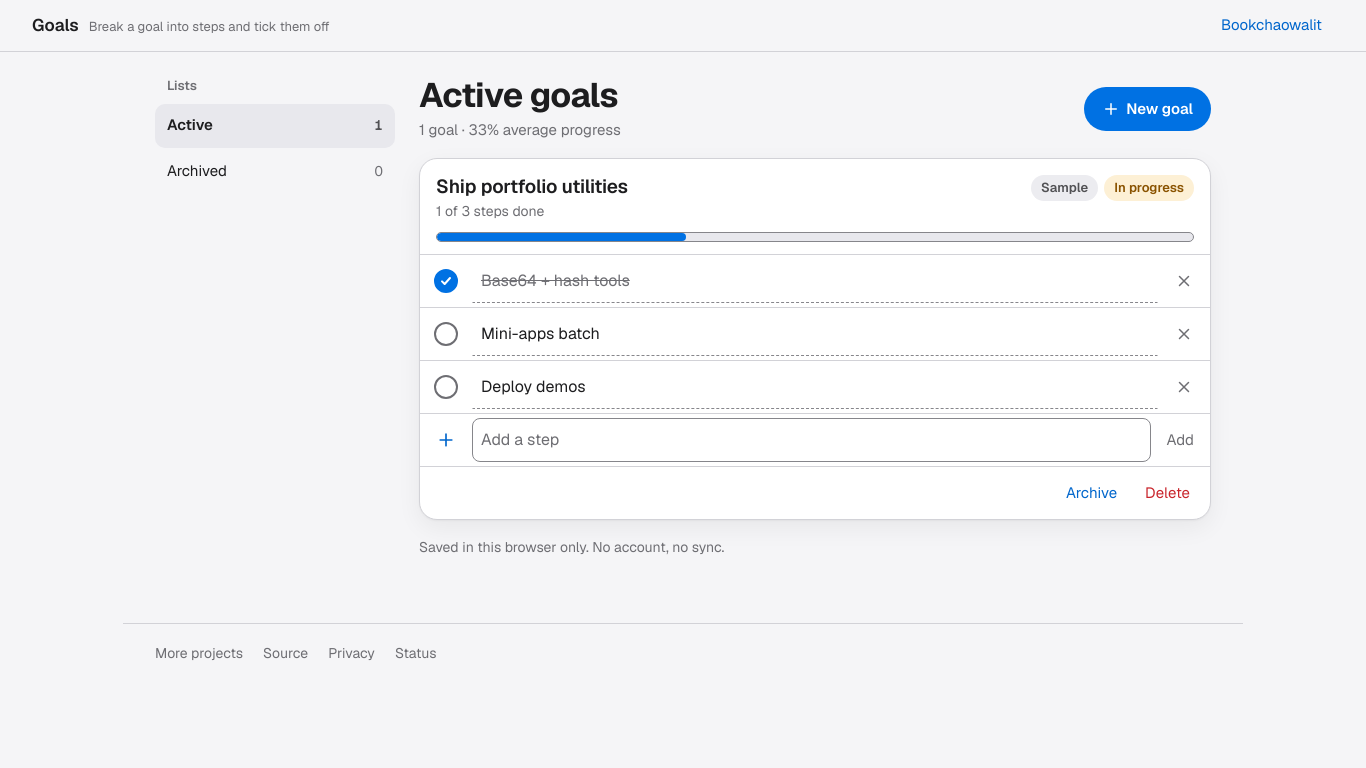
Test: steps › ticking a step updates the summary, pill and progress; all done turns the goal Done
Click the checkbox named "Done: Mini-apps batch": (446, 334) [434,322,458,346]
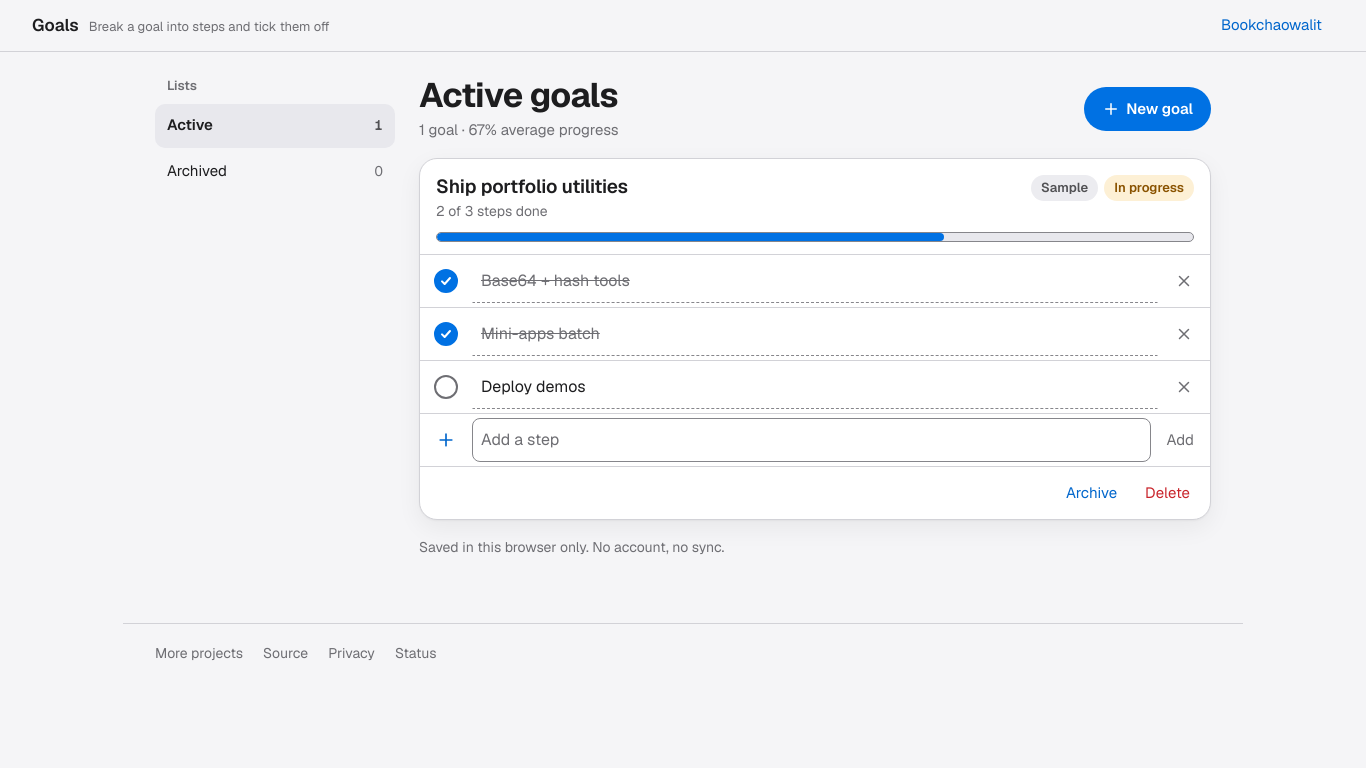
Expected: the element with class "as-goal" shows "2 of 3 steps done", [436,202,548,220]
Click the checkbox named "Done: Deploy demos": (446, 387) [434,375,458,399]
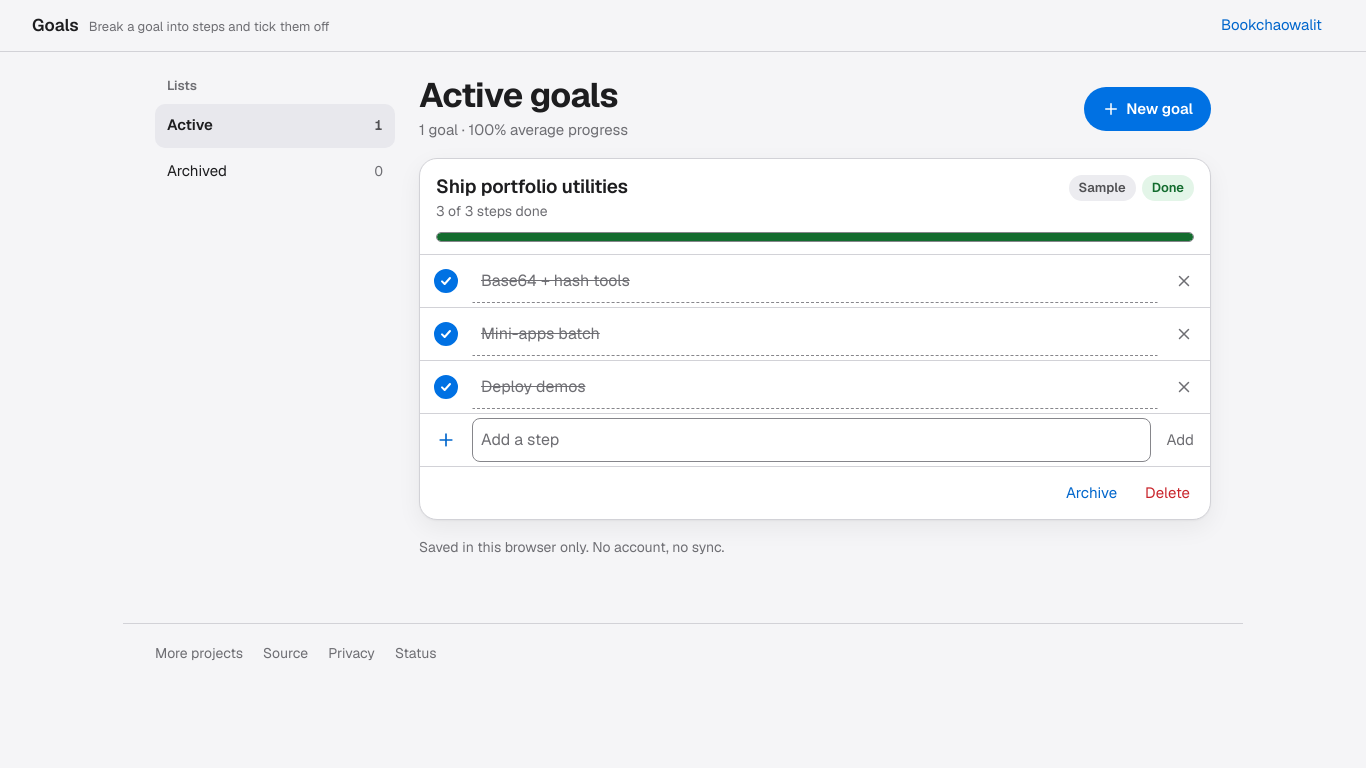
Expected: the element with class "as-goal" shows "done", [1152,179,1184,196]
Expected: the progress indicator named "Ship portfolio utilities progress" has attribute data-done="true", [436,232,1194,242]
Click the checkbox named "Done: Deploy demos": (446, 387) [434,375,458,399]
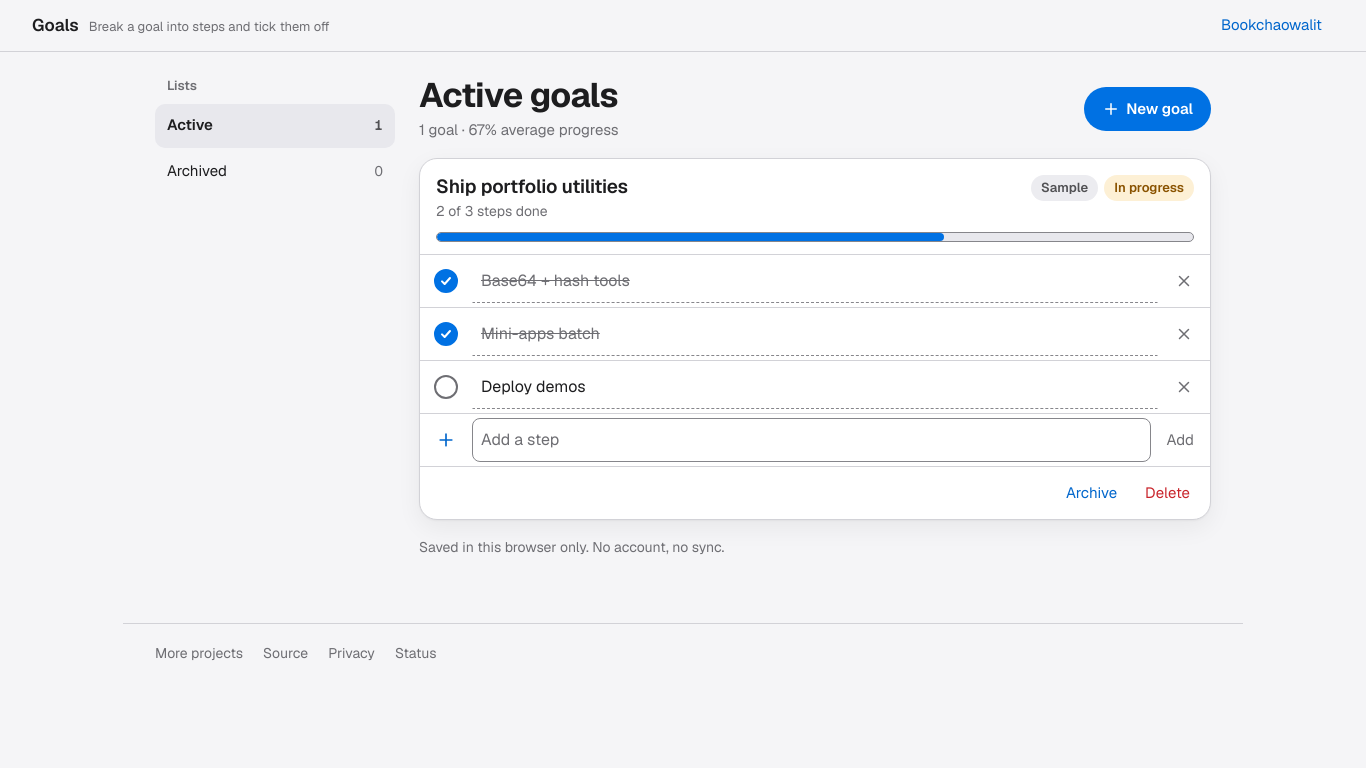
Expected: the element with class "as-goal" shows "In progress", [1114,179,1184,196]
